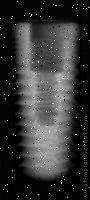Implant Direct: (9, 20, 82, 184)
